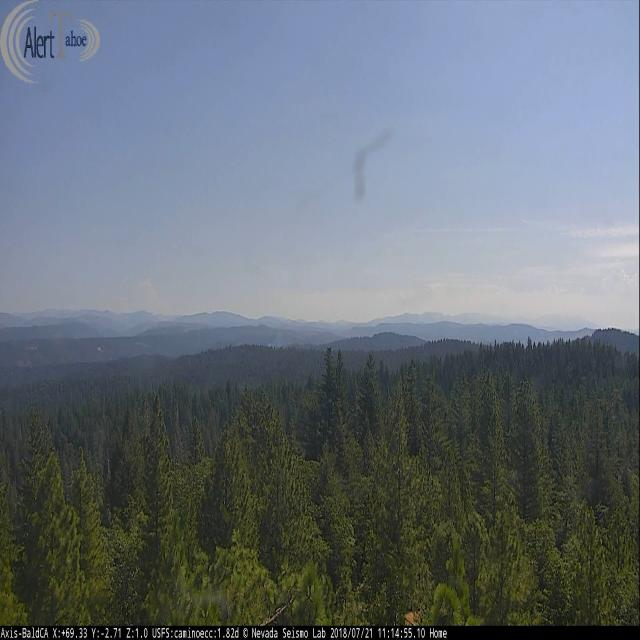smoke: (267, 331, 283, 348)
